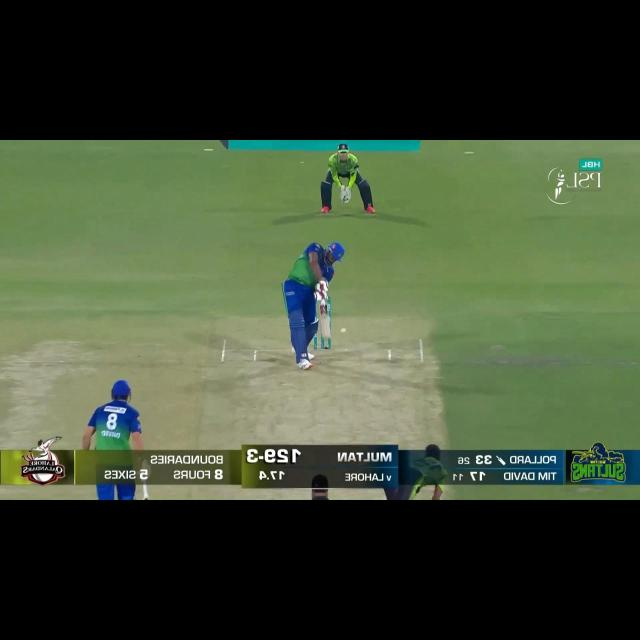bat: (317, 304, 334, 339)
toe: (320, 330, 333, 339)
